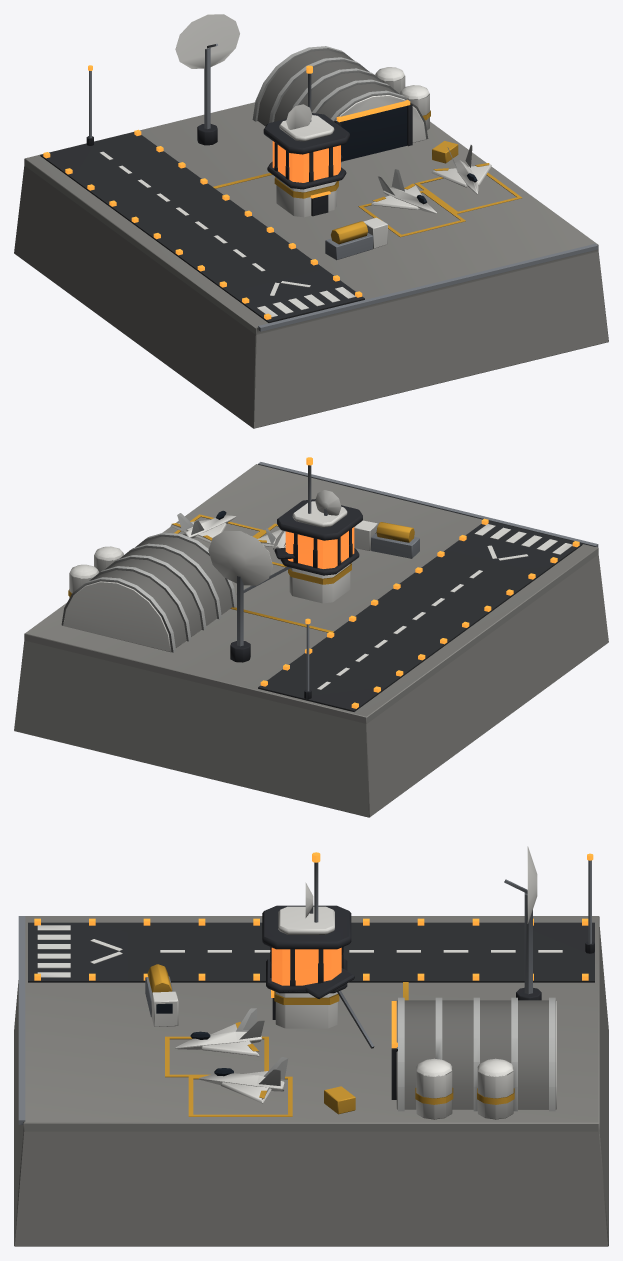
The model's file is airfield-luna.glb.
3 renders of one model, top to bottom at view 1: azimuth 30°, elevation 25°; view 2: azimuth 150°, elevation 25°; view 3: azimuth 270°, elevation 25°, orthographic. The views are drawn at different scales.
Parts seen in each view (by area): view 1: site_airfield_luna_body, site_airfield_luna_core, site_airfield_luna_ruin; view 2: site_airfield_luna_body, site_airfield_luna_core, site_airfield_luna_ruin; view 3: site_airfield_luna_body, site_airfield_luna_core, site_airfield_luna_ruin.
Boxes of the visible parts, <box> form: site_airfield_luna_body: <box>14,14,608,428</box>; site_airfield_luna_core: <box>263,65,349,189</box>; site_airfield_luna_ruin: <box>267,155,346,188</box>; site_airfield_luna_body: <box>14,462,608,817</box>; site_airfield_luna_core: <box>277,457,362,575</box>; site_airfield_luna_ruin: <box>236,543,359,594</box>; site_airfield_luna_body: <box>14,846,608,1246</box>; site_airfield_luna_core: <box>262,852,351,993</box>; site_airfield_luna_ruin: <box>266,947,374,1048</box>.
Size of the model in its own units: 5.4 by 3.33 by 6.3.
